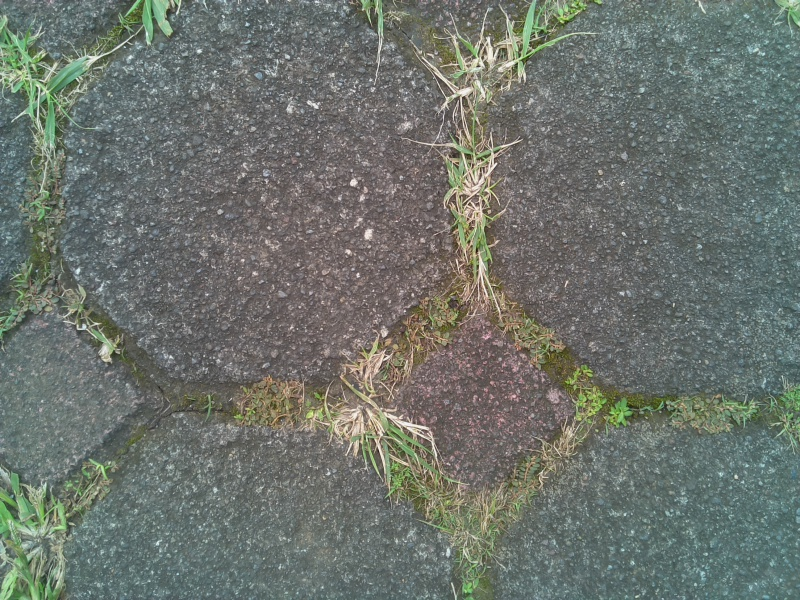Weed: (432, 132, 514, 272), (434, 29, 551, 116), (328, 394, 439, 483), (3, 465, 73, 600), (13, 55, 98, 158), (419, 491, 521, 569), (517, 416, 596, 490), (652, 389, 757, 442), (227, 370, 305, 440), (2, 261, 84, 327), (17, 160, 73, 246), (503, 308, 564, 370), (401, 295, 460, 351), (351, 337, 405, 393), (78, 318, 134, 366), (565, 363, 608, 414), (603, 394, 637, 436)
